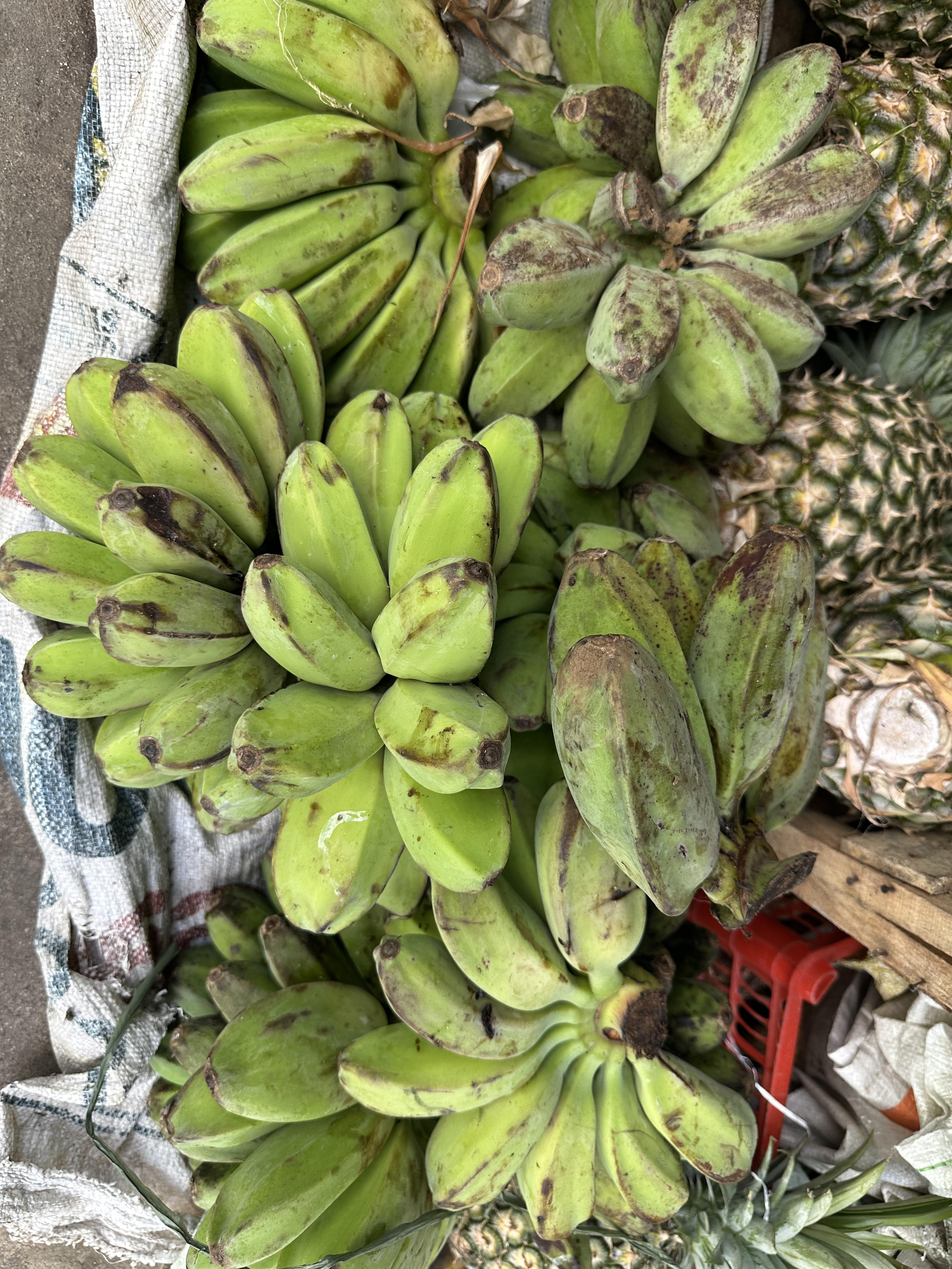underripe: (468, 0, 881, 487), (339, 781, 756, 1240), (0, 289, 325, 833), (229, 390, 542, 933), (176, 0, 479, 430), (547, 526, 828, 913), (150, 884, 427, 1269), (479, 433, 722, 730), (490, 0, 675, 237)
